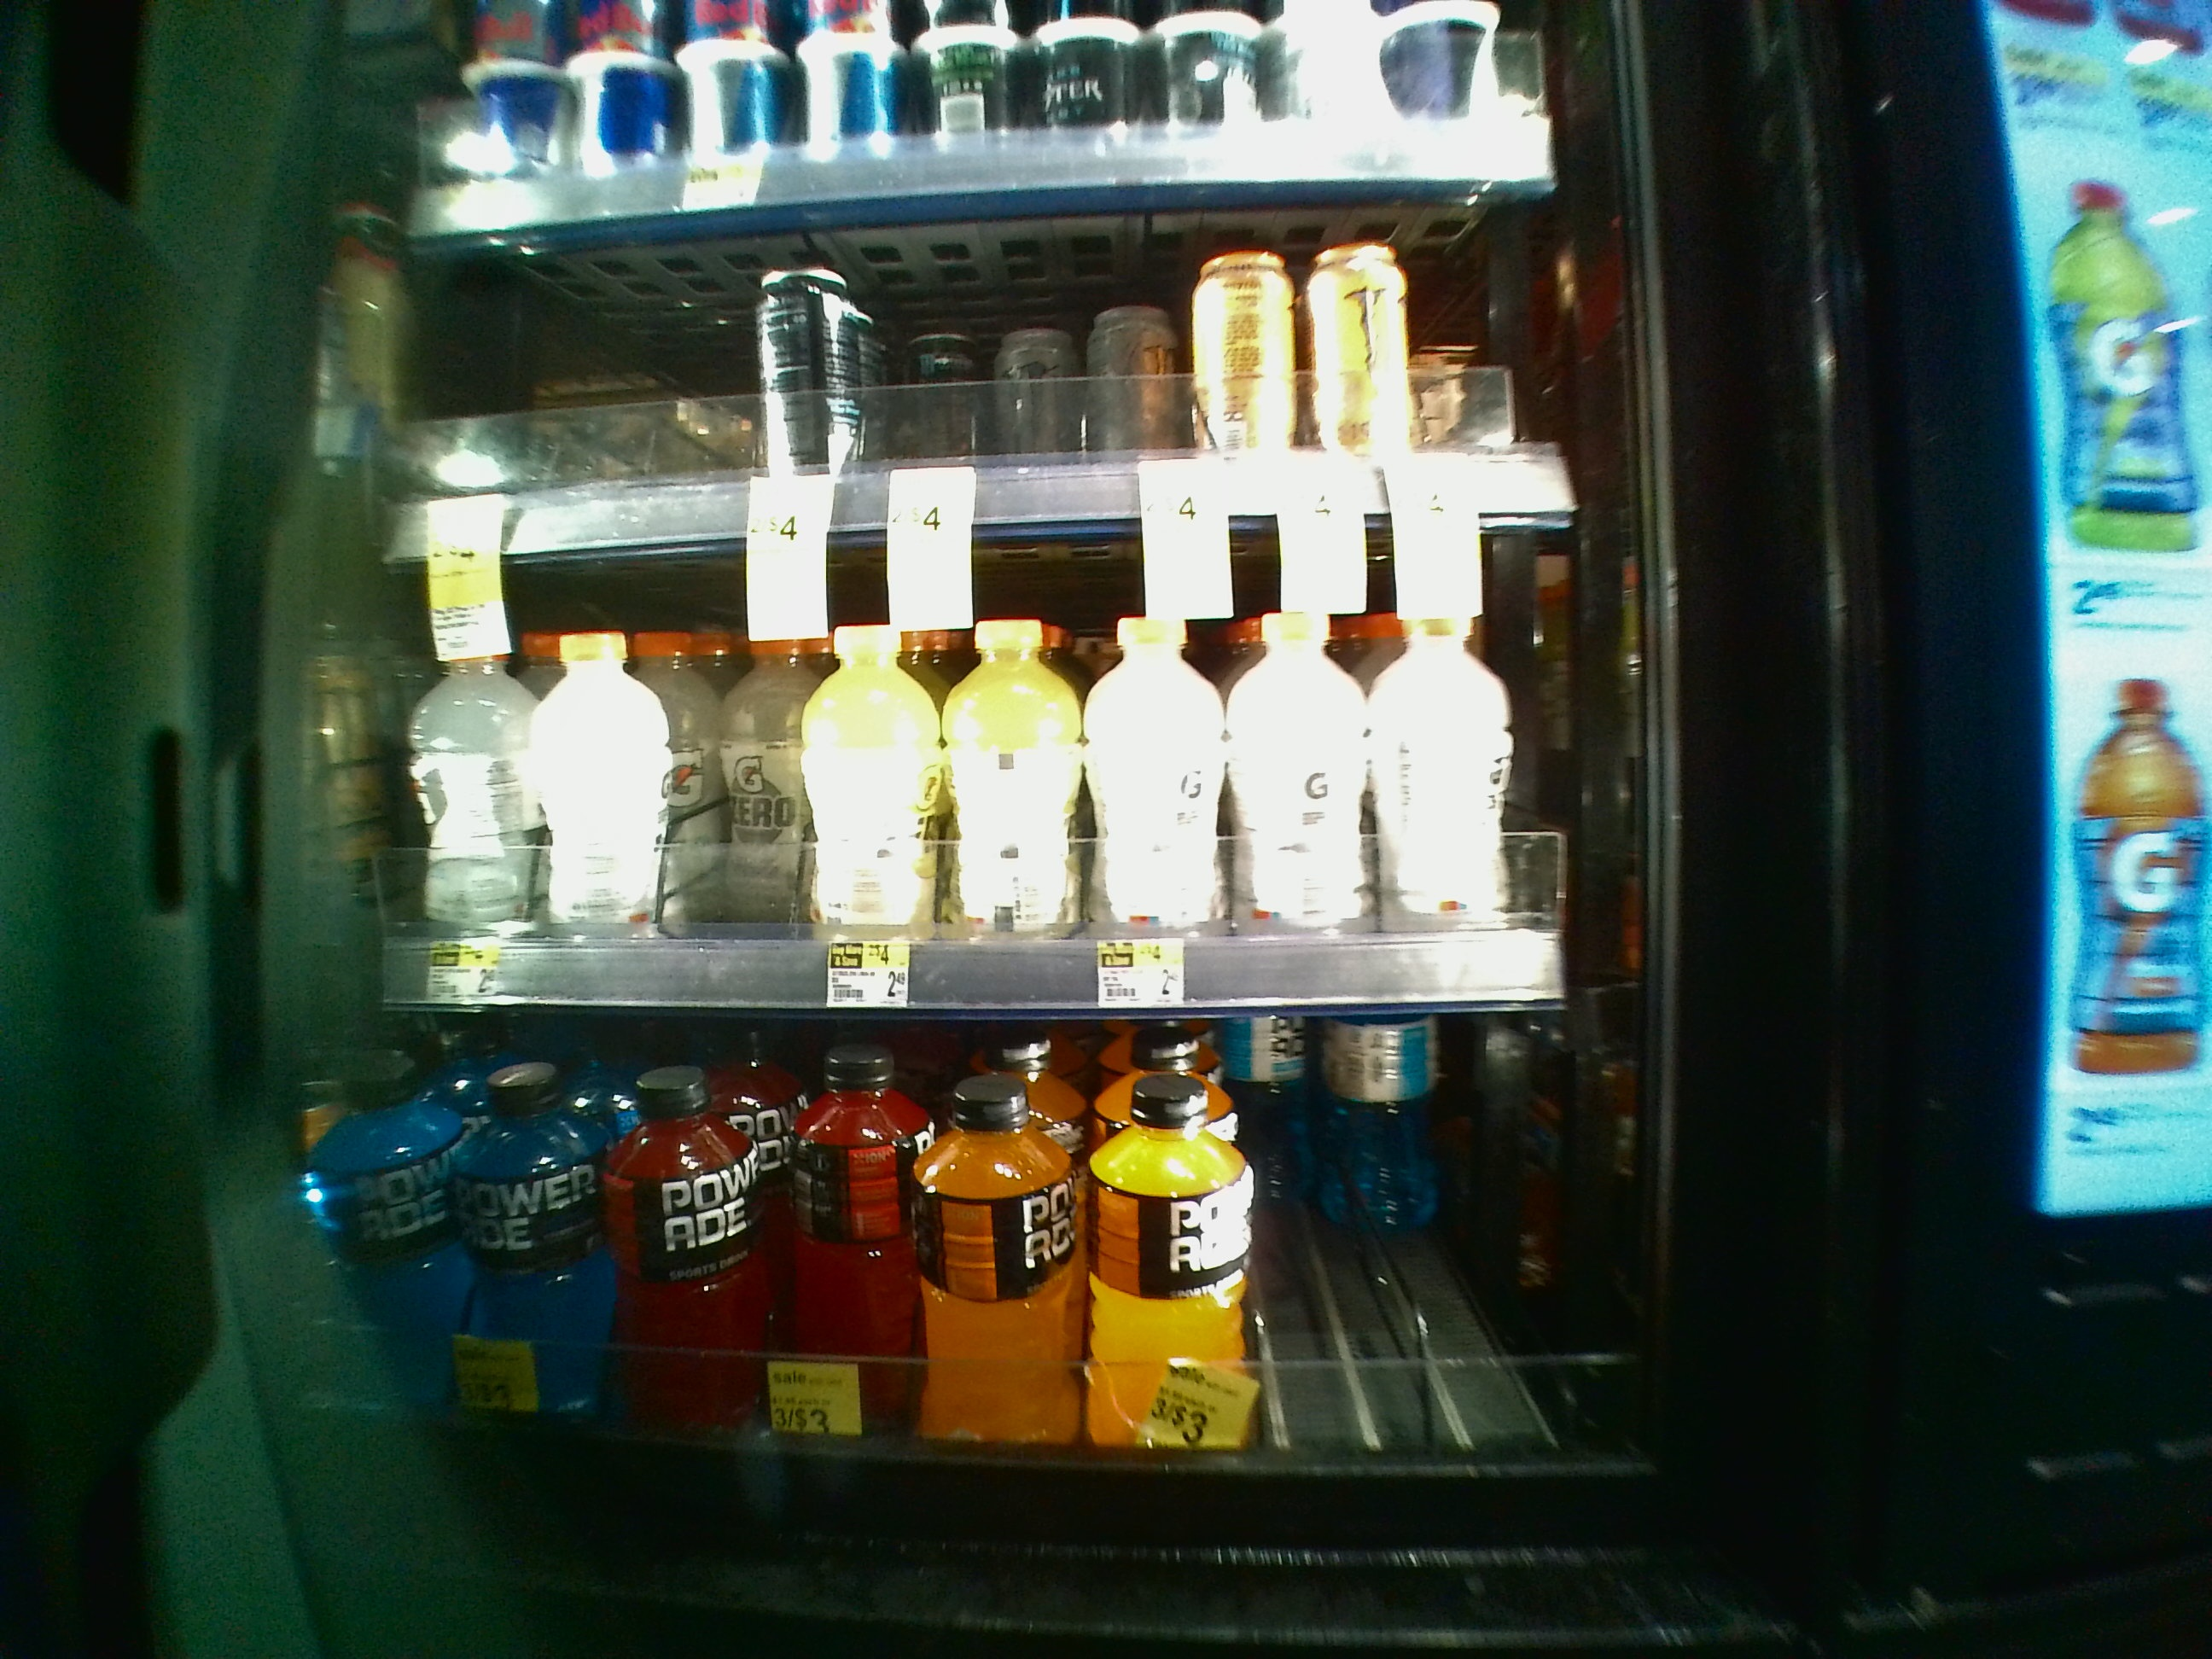shelf: (348, 526, 1660, 1016)
